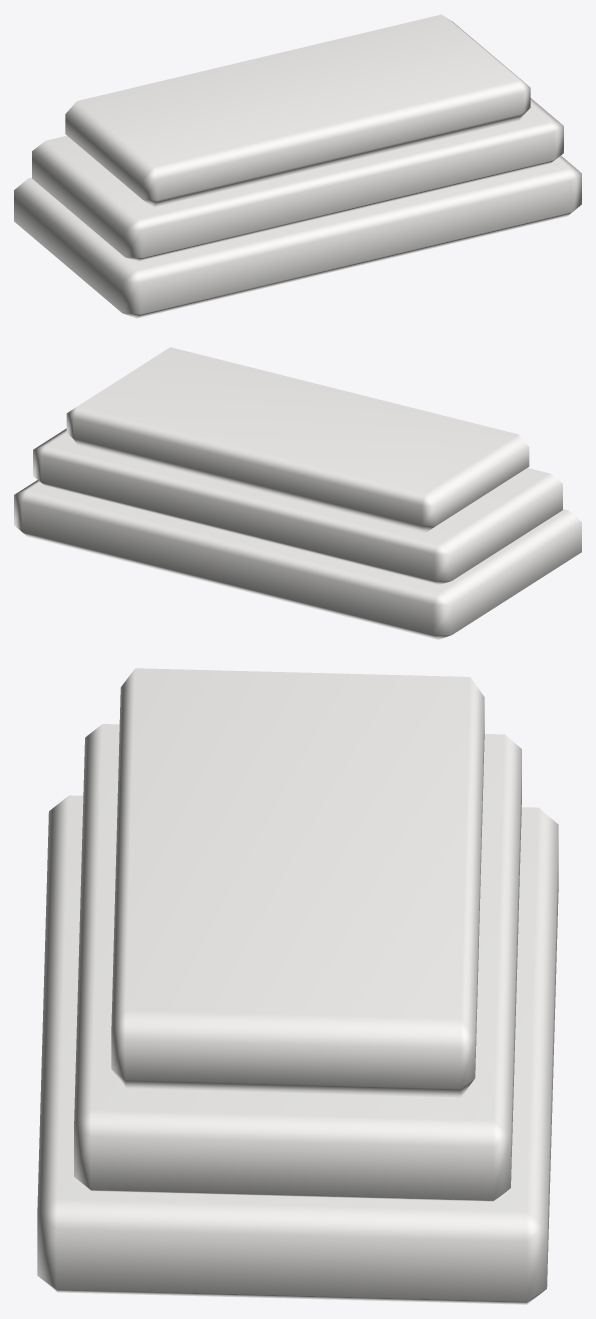
The model's file is Towel_3.glb.
3 views of the same model, one above another, from view 1: azimuth 30°, elevation 25°; view 2: azimuth 150°, elevation 25°; view 3: azimuth 270°, elevation 25° (orthographic). The views are drawn at different scales.
Visible parts, largest first — view 1: Towel_3; view 2: Towel_3; view 3: Towel_3.
Part boxes in pixels (box(x1,y1,x2,y2)): Towel_3: box(14, 14, 581, 318); Towel_3: box(14, 347, 581, 639); Towel_3: box(37, 668, 558, 1304).
Size of the model in its own units: 0.5106 by 0.1361 by 0.2541.
1 material, 1 textured.
